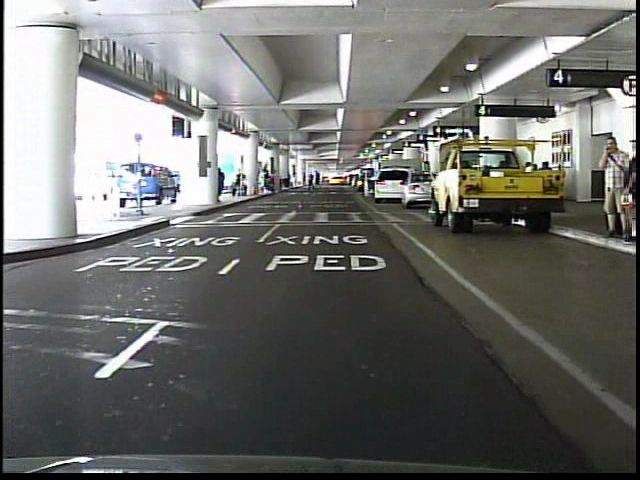person: (595, 134, 626, 239)
